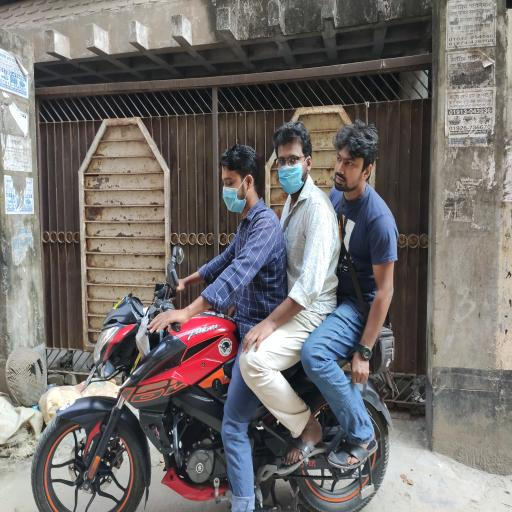helmet: (4, 345, 48, 408)
